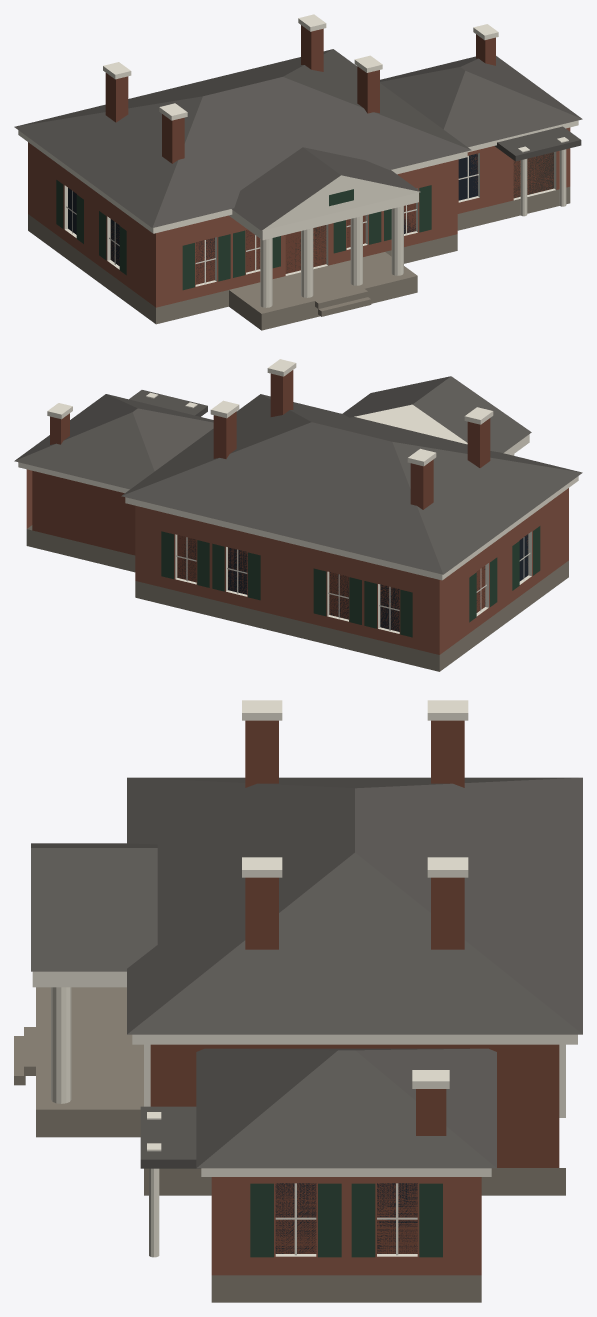
The model's file is trapnall-hall.glb.
3 views of the same model, one above another, from view 1: azimuth 30°, elevation 25°; view 2: azimuth 150°, elevation 25°; view 3: azimuth 270°, elevation 25° (orthographic). The views are drawn at different scales.
Parts seen in each view (by area): view 1: trapnall_roof, trapnall_brick, trapnall_base, trapnall_brick2, trapnall_trim, trapnall_wood, trapnall_shutter, trapnall_glass, trapnall_door, trapnall_sash; view 2: trapnall_roof, trapnall_brick, trapnall_brick2, trapnall_base, trapnall_trim, trapnall_shutter, trapnall_glass, trapnall_sash; view 3: trapnall_roof, trapnall_brick2, trapnall_base, trapnall_trim, trapnall_brick, trapnall_shutter, trapnall_glass, trapnall_wood.
Part boxes in pixels (x1,y1,x2,y2): trapnall_roof: [14, 49, 582, 230]; trapnall_brick: [28, 127, 570, 307]; trapnall_base: [28, 186, 570, 330]; trapnall_brick2: [105, 25, 553, 284]; trapnall_trim: [18, 14, 578, 286]; trapnall_wood: [260, 149, 566, 307]; trapnall_shutter: [56, 180, 431, 290]; trapnall_glass: [68, 153, 477, 282]; trapnall_door: [286, 152, 553, 272]; trapnall_sash: [66, 155, 478, 283]; trapnall_roof: [14, 376, 582, 574]; trapnall_brick: [26, 469, 568, 654]; trapnall_brick2: [32, 370, 527, 631]; trapnall_base: [26, 525, 568, 671]; trapnall_trim: [18, 359, 578, 633]; trapnall_shutter: [161, 526, 540, 637]; trapnall_glass: [178, 534, 528, 631]; trapnall_sash: [176, 537, 530, 630]; trapnall_roof: [31, 777, 582, 1168]; trapnall_brick2: [150, 720, 559, 1253]; trapnall_base: [14, 987, 565, 1302]; trapnall_trim: [32, 700, 577, 1256]; trapnall_brick: [211, 1177, 481, 1275]; trapnall_shutter: [250, 1183, 442, 1257]; trapnall_glass: [275, 1183, 417, 1253]; trapnall_wood: [51, 987, 159, 1257].
Size of the model in its own units: 25.45 by 9.45 by 16.85.
